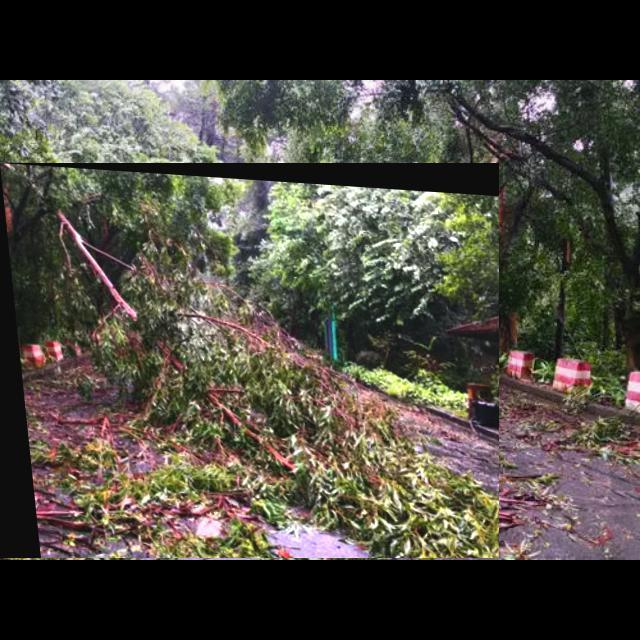fallen_tree: (0, 163, 500, 559)
